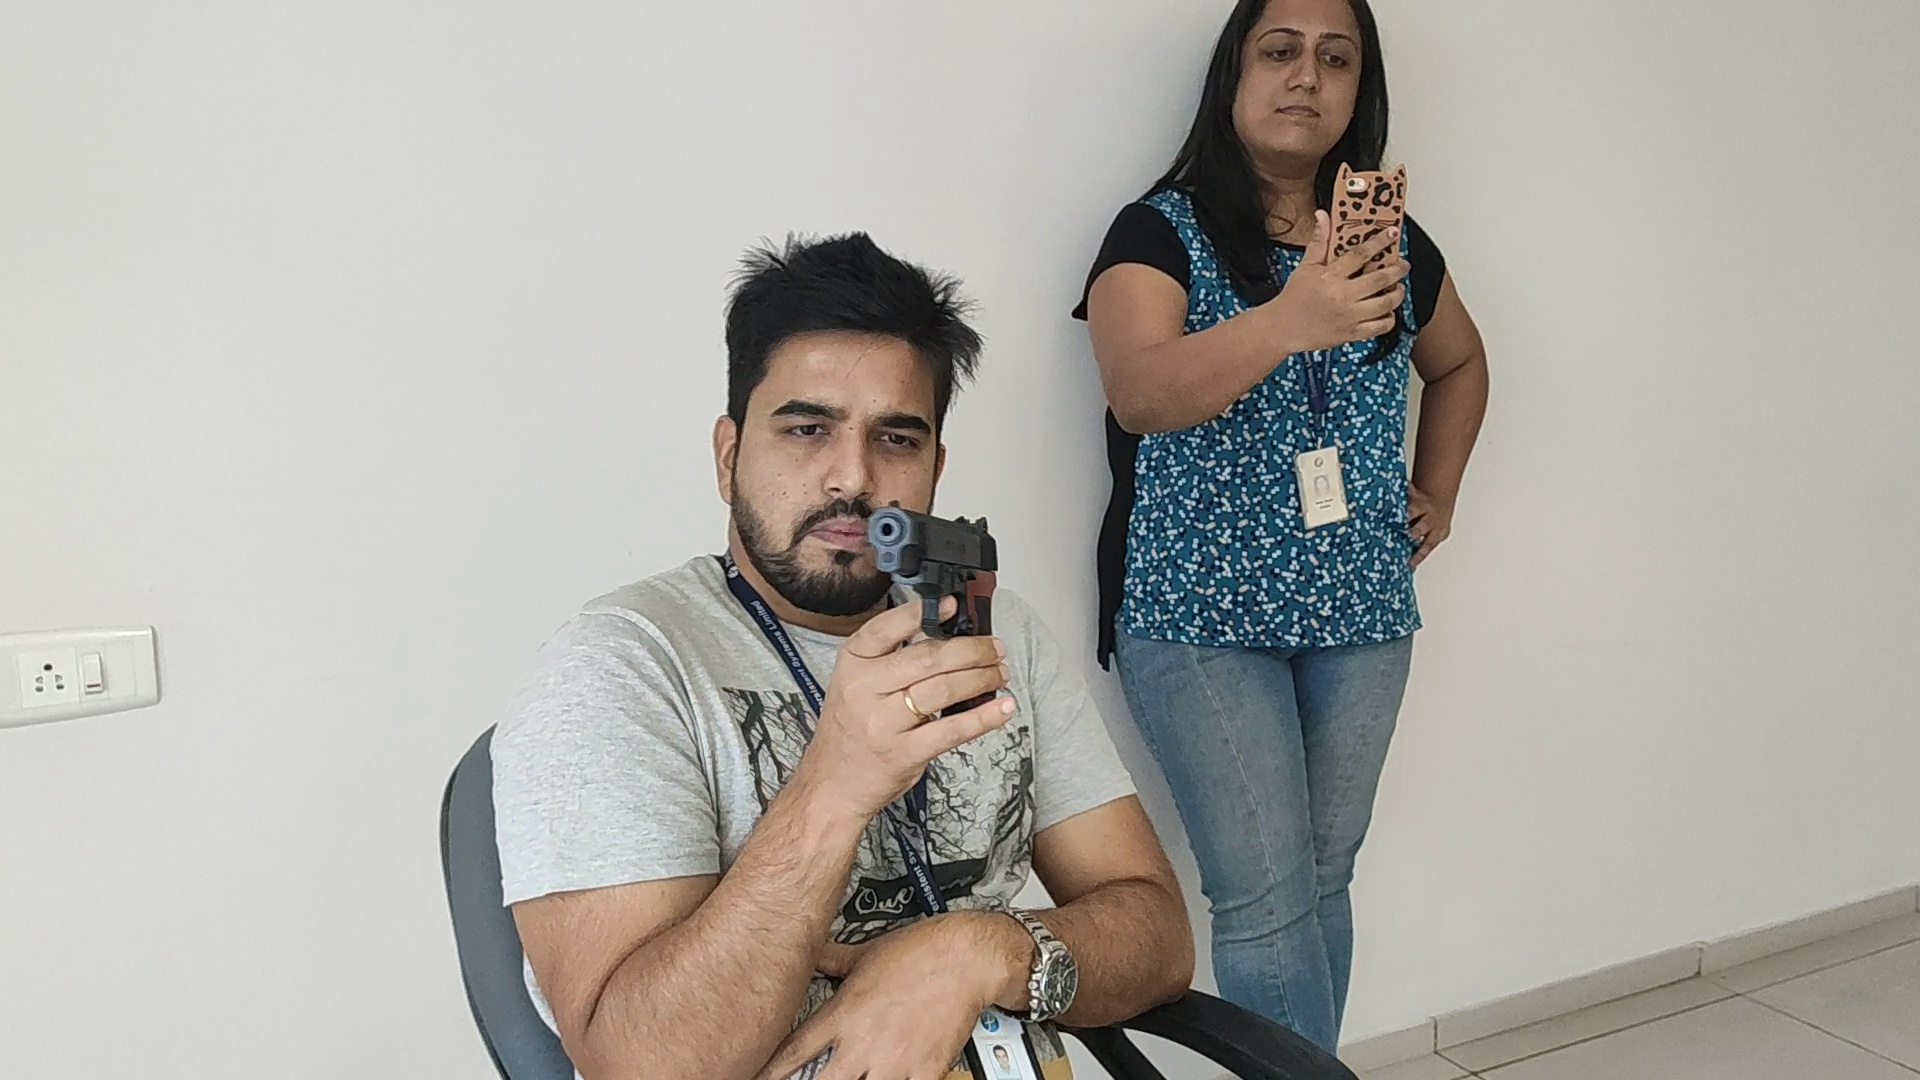gun: (868, 500, 998, 595)
